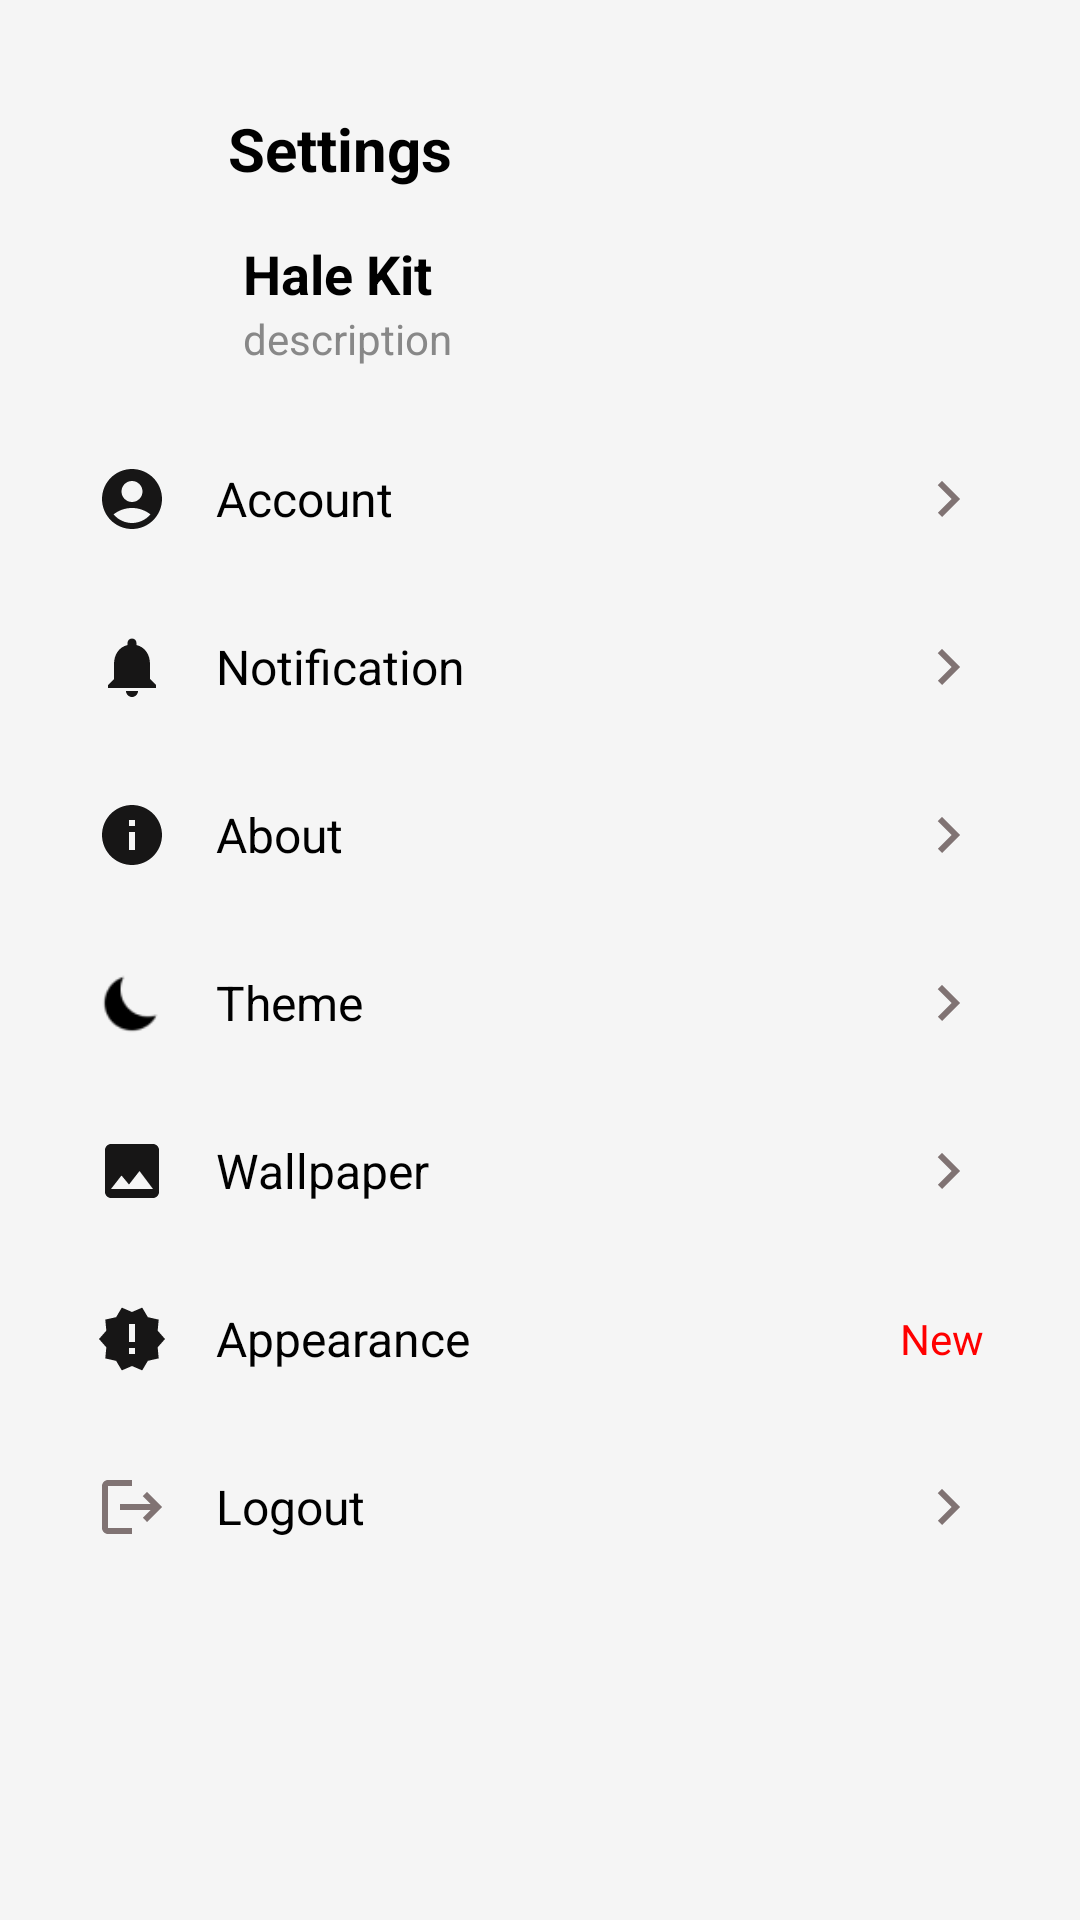

Icon bounding boxes for this 1080×1920 phone screenshot, format [x1=x1, y1=y1, x2=x2, y2=y2]:
info: [x1=102, y1=805, x2=162, y2=865]
insert photo: [x1=105, y1=1144, x2=159, y2=1198]
keyboard arrow right: [x1=938, y1=481, x2=960, y2=517], [x1=938, y1=649, x2=960, y2=685], [x1=938, y1=817, x2=960, y2=853], [x1=938, y1=985, x2=960, y2=1021], [x1=938, y1=1153, x2=960, y2=1189], [x1=938, y1=1489, x2=960, y2=1525]
moon: [x1=104, y1=977, x2=157, y2=1031]
releases: [x1=99, y1=1307, x2=165, y2=1371]
